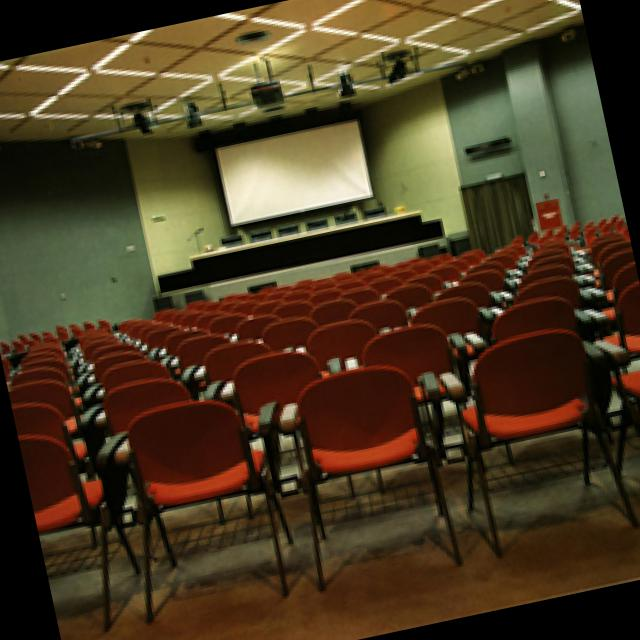painting crop: (127, 243, 200, 404), (586, 152, 636, 294), (558, 178, 614, 297), (233, 270, 275, 378), (523, 223, 557, 305), (284, 284, 316, 364), (435, 288, 468, 325), (406, 297, 434, 331)
